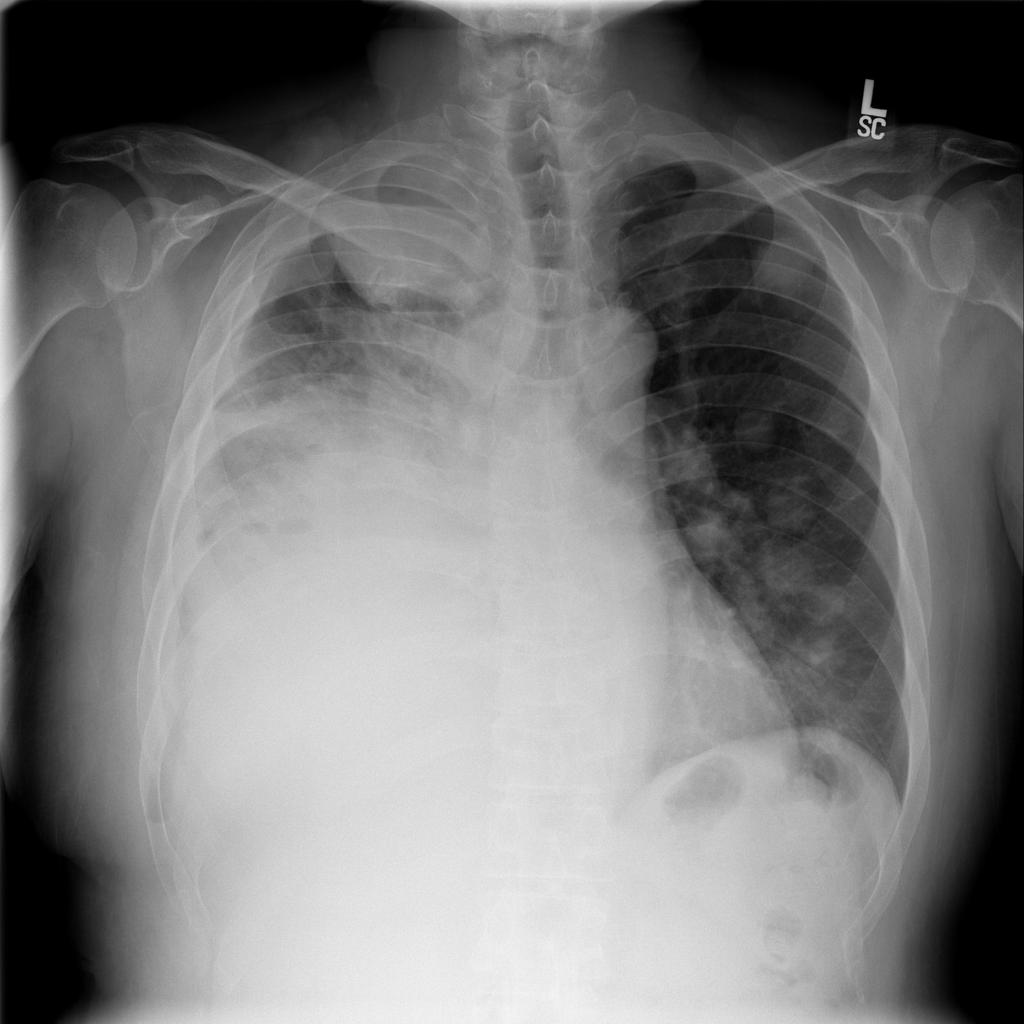nodule: (734, 209, 832, 316), (752, 466, 827, 541), (669, 503, 749, 569), (744, 534, 822, 601), (722, 390, 792, 464), (785, 609, 861, 677), (796, 389, 867, 461), (795, 565, 867, 634)
